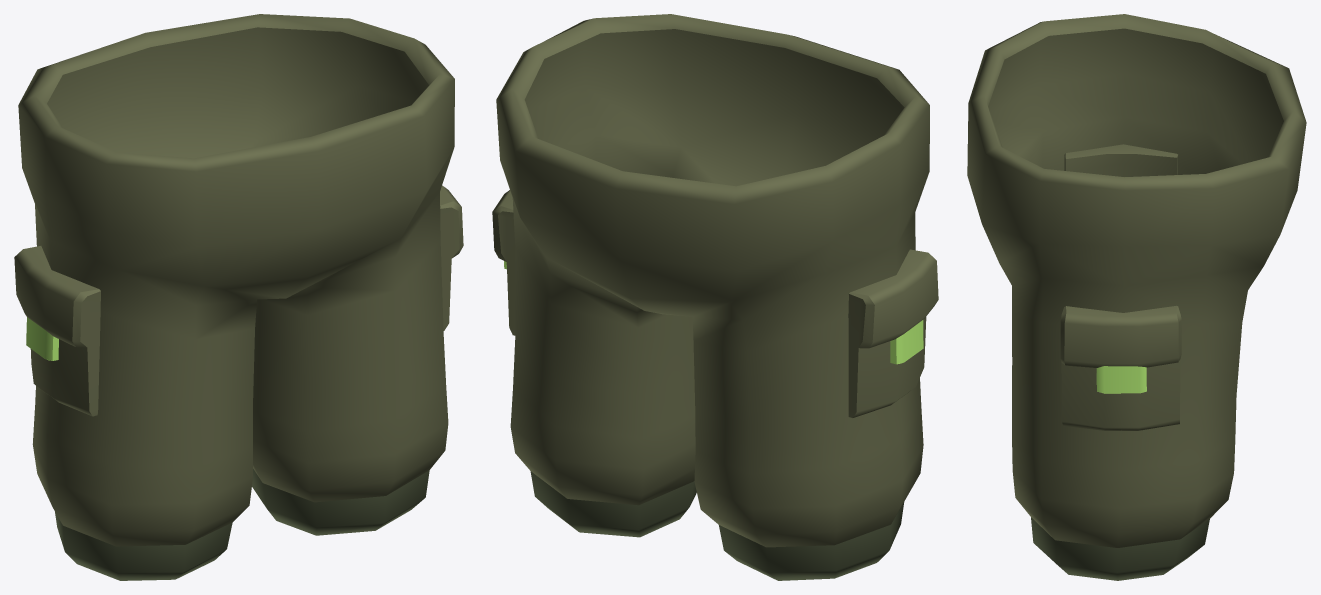
File: Bottom_10.fbx
3 renders of one model, left to right at view 1: azimuth 30°, elevation 25°; view 2: azimuth 150°, elevation 25°; view 3: azimuth 270°, elevation 25°, orthographic. The views are drawn at different scales.
Parts seen in each view (by area): view 1: Bottom_10; view 2: Bottom_10; view 3: Bottom_10.
Boxes of the visible parts, box(x1,y1,x2,y2) form: Bottom_10: box(14, 14, 463, 580); Bottom_10: box(492, 14, 938, 580); Bottom_10: box(967, 14, 1306, 580).
Bounding box in the file's own units: 40.61 × 42.66 × 31.42.
